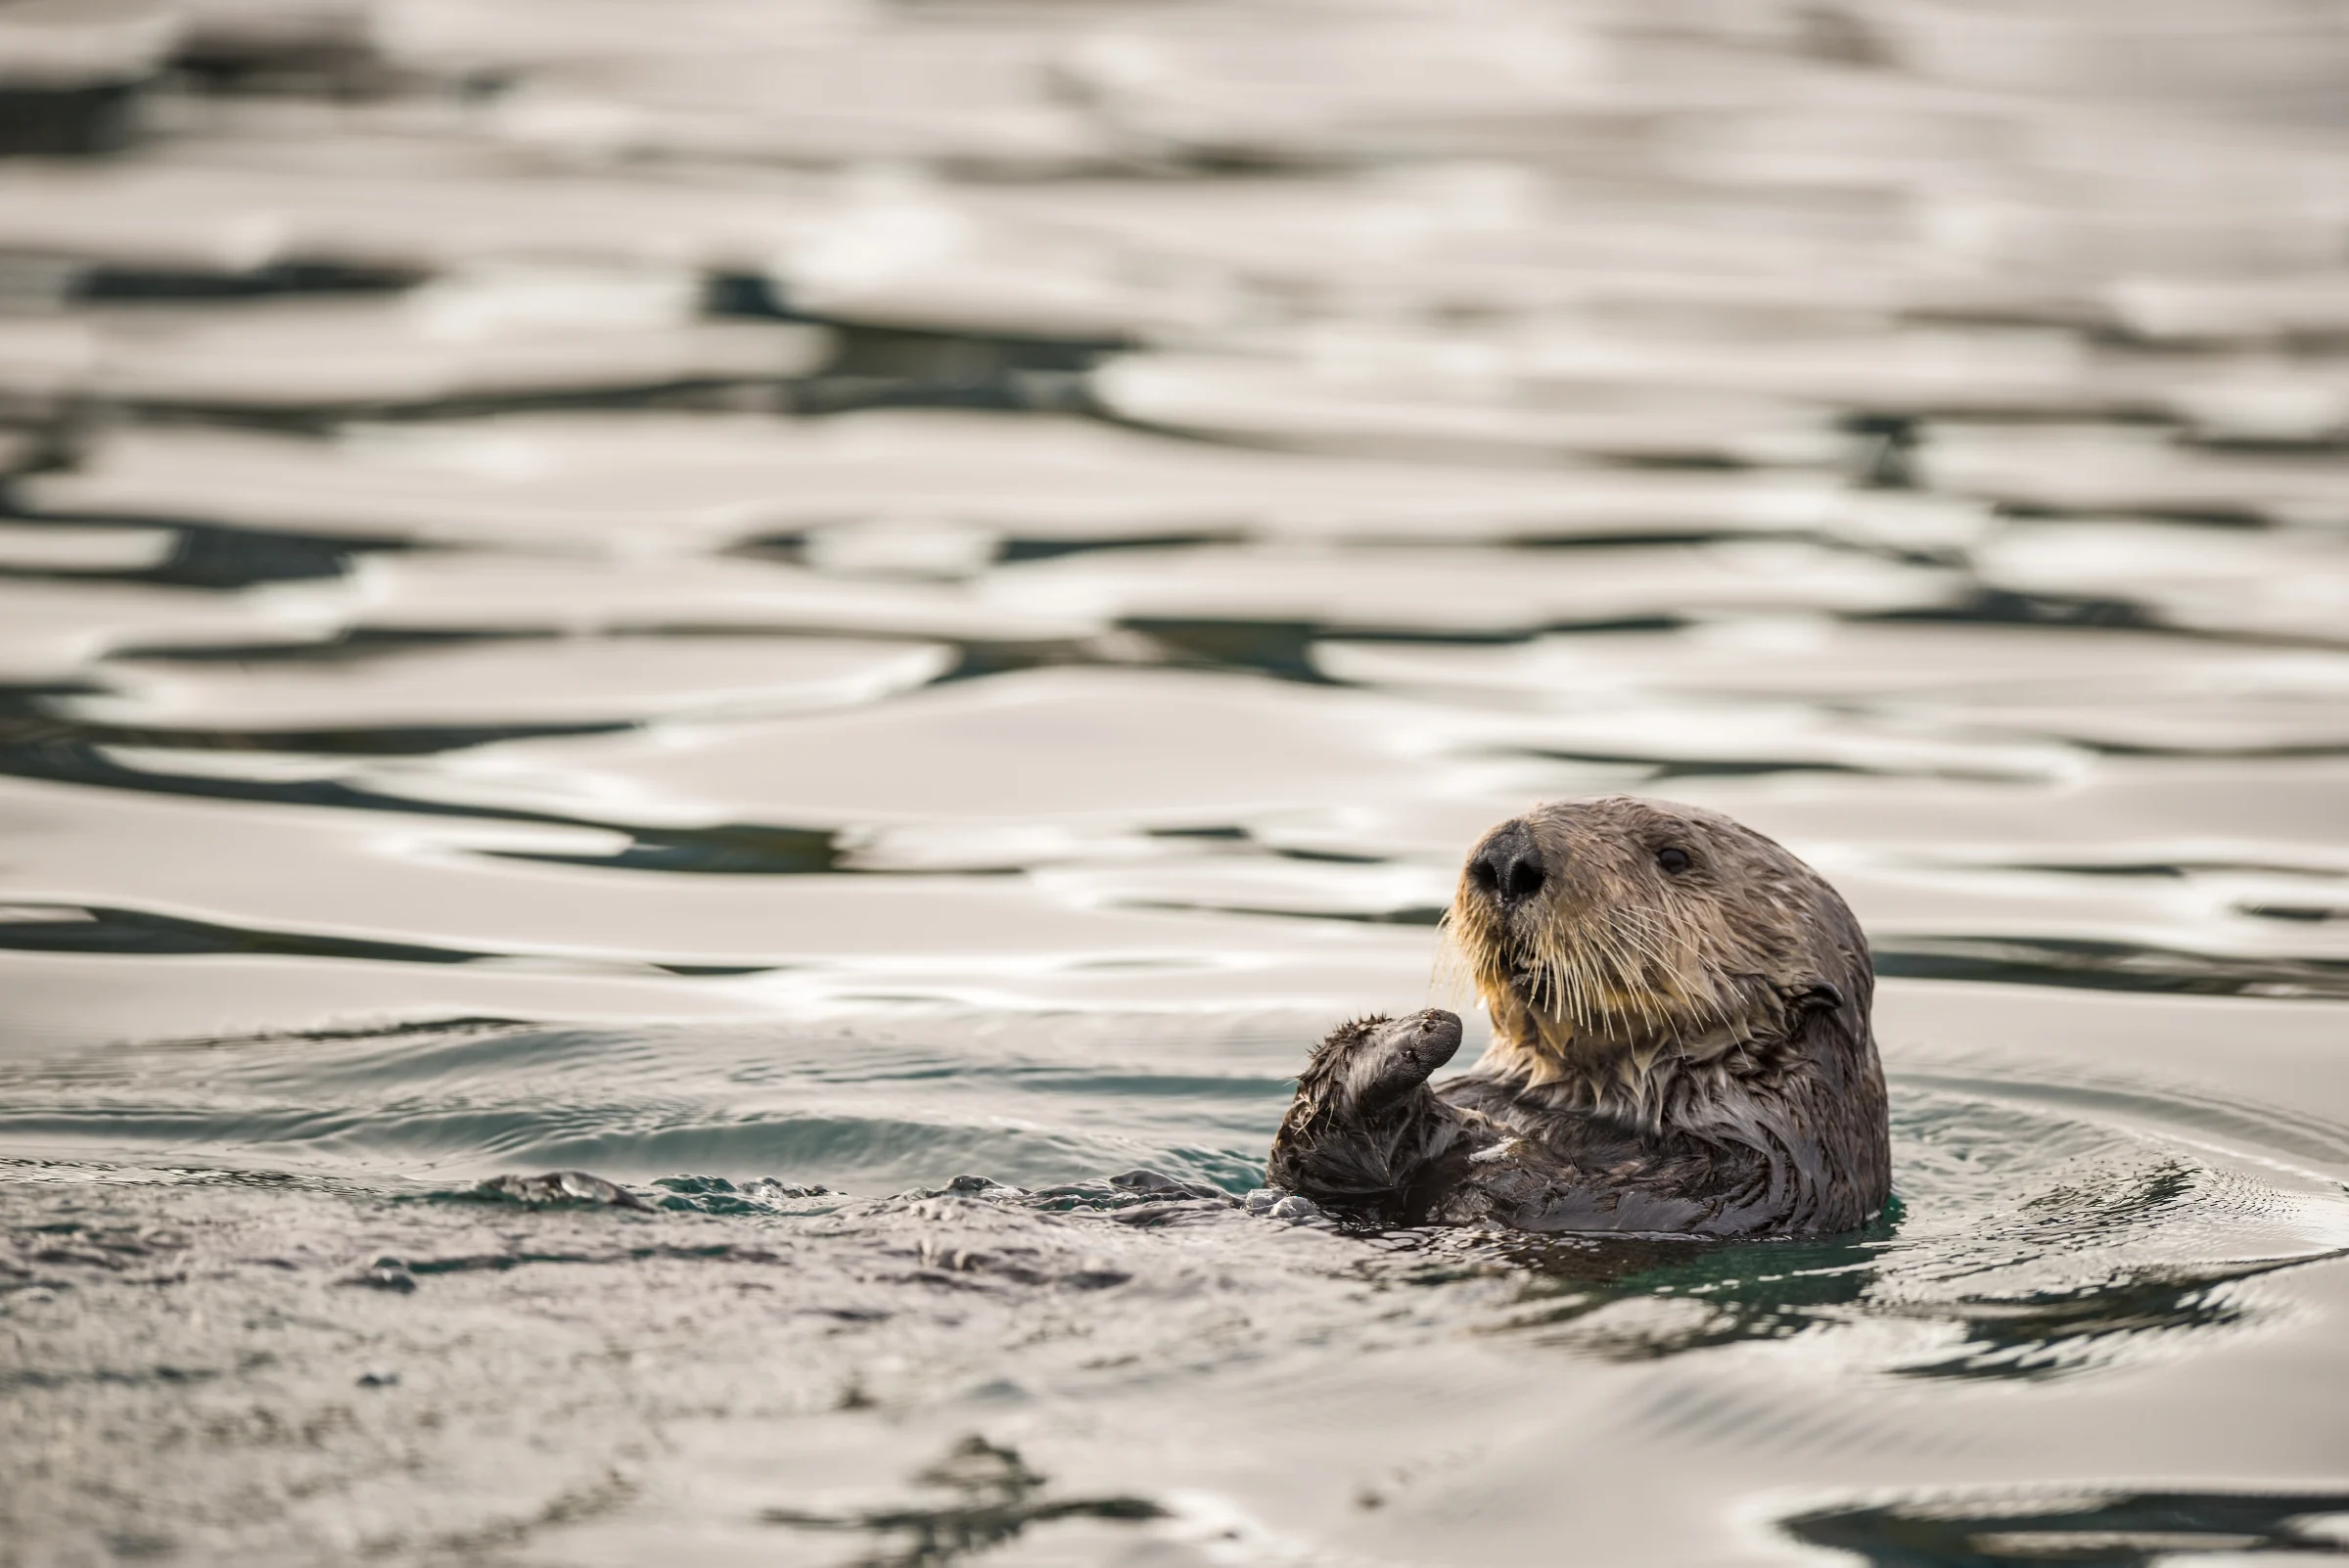otter: (1287, 670, 2034, 1356)
